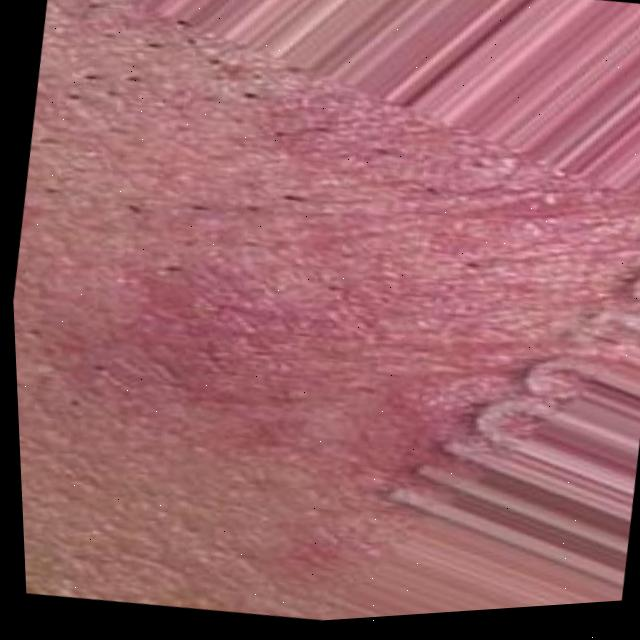Rosacea: (85, 59, 584, 485)
